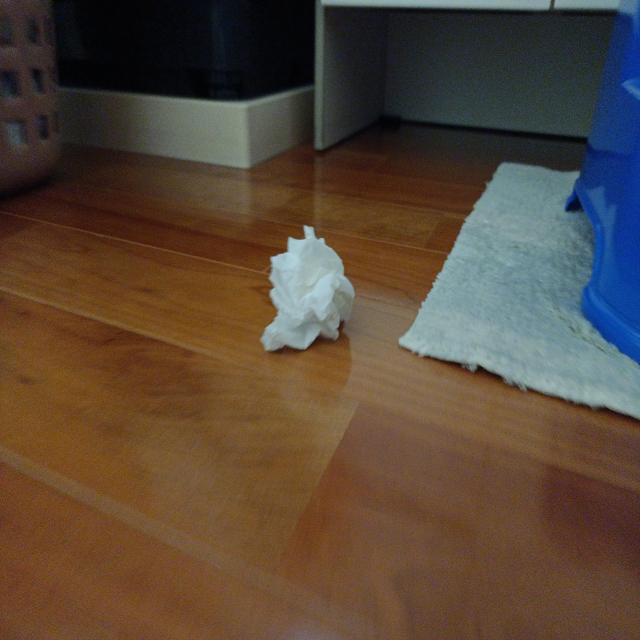Paper: (264, 228, 360, 373)
